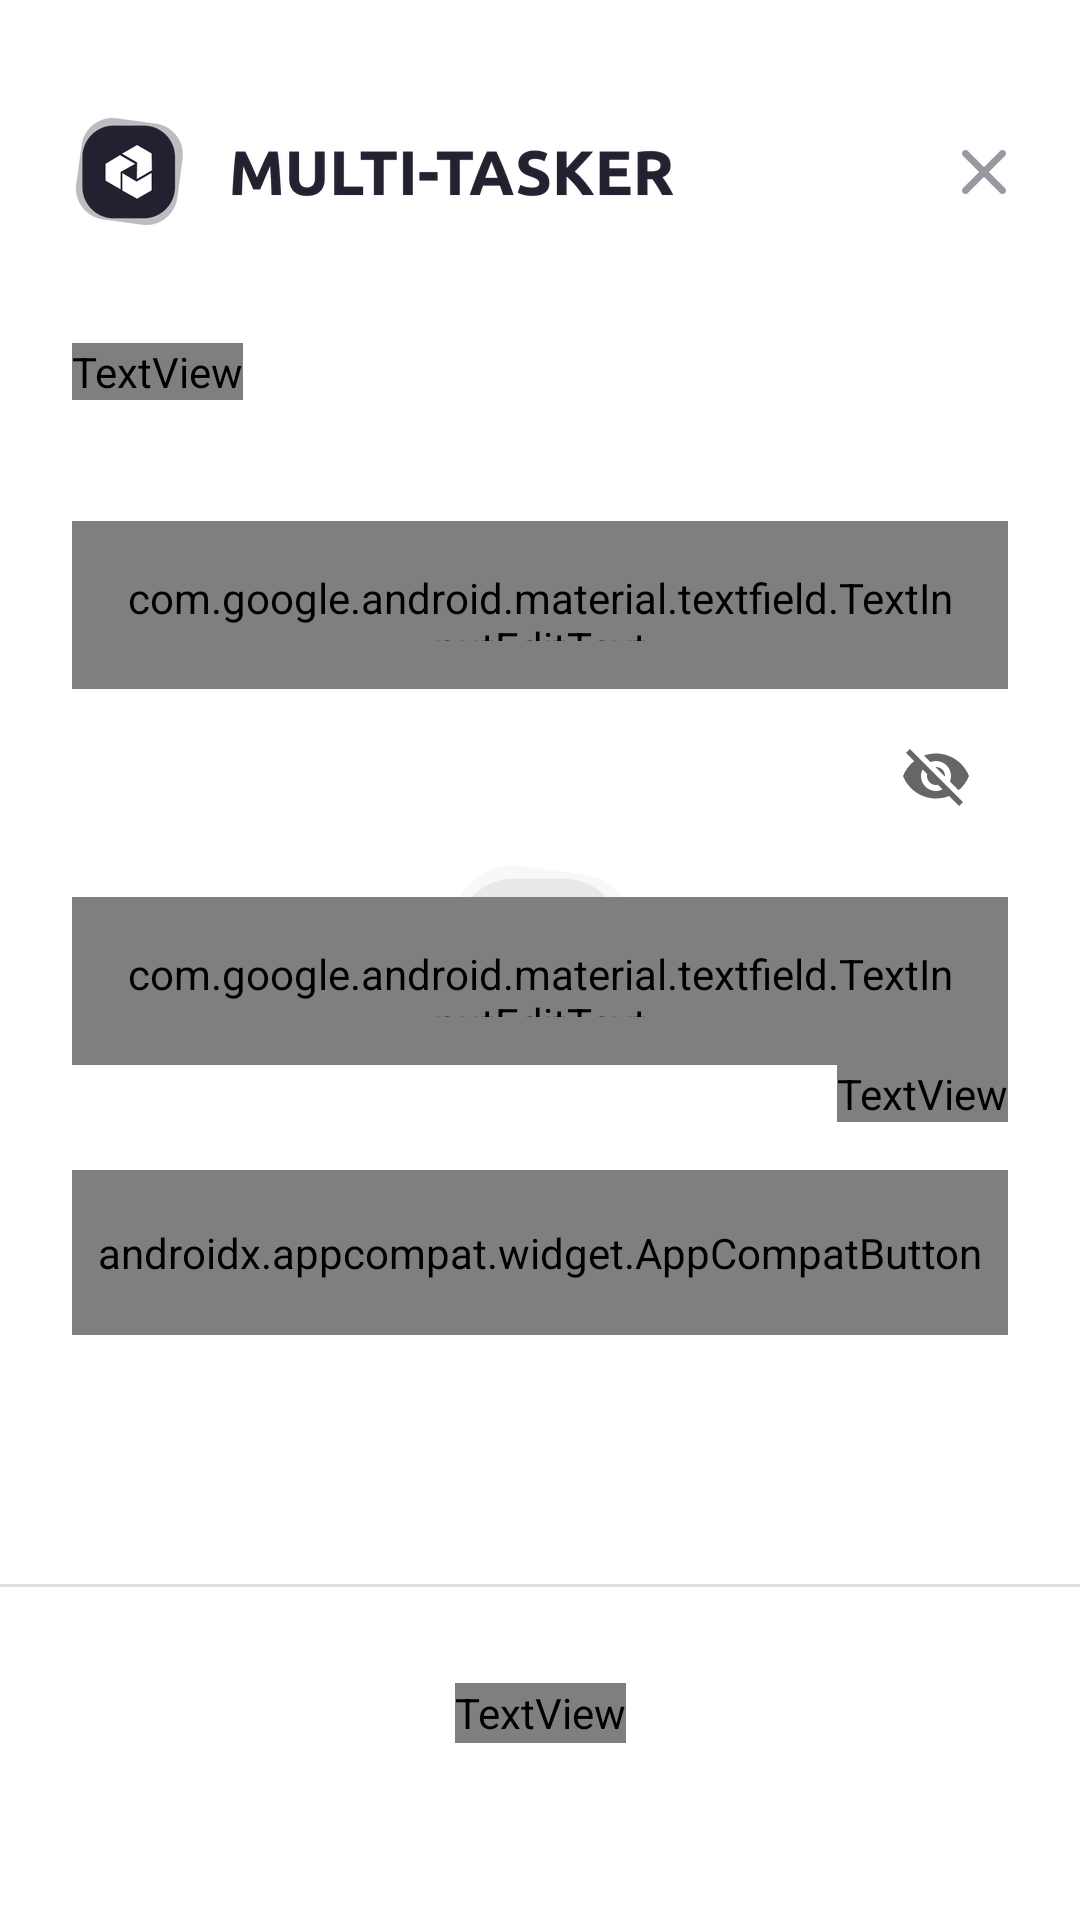

Screen size 1080 × 1920. Icon name, then its center in pixels as (x=x, y=y):
close: (x=984, y=172)
